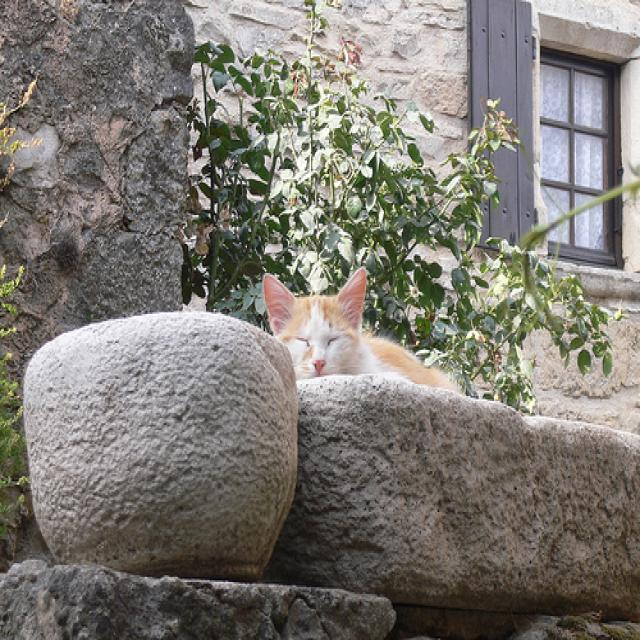left eye: (325, 331, 339, 347)
